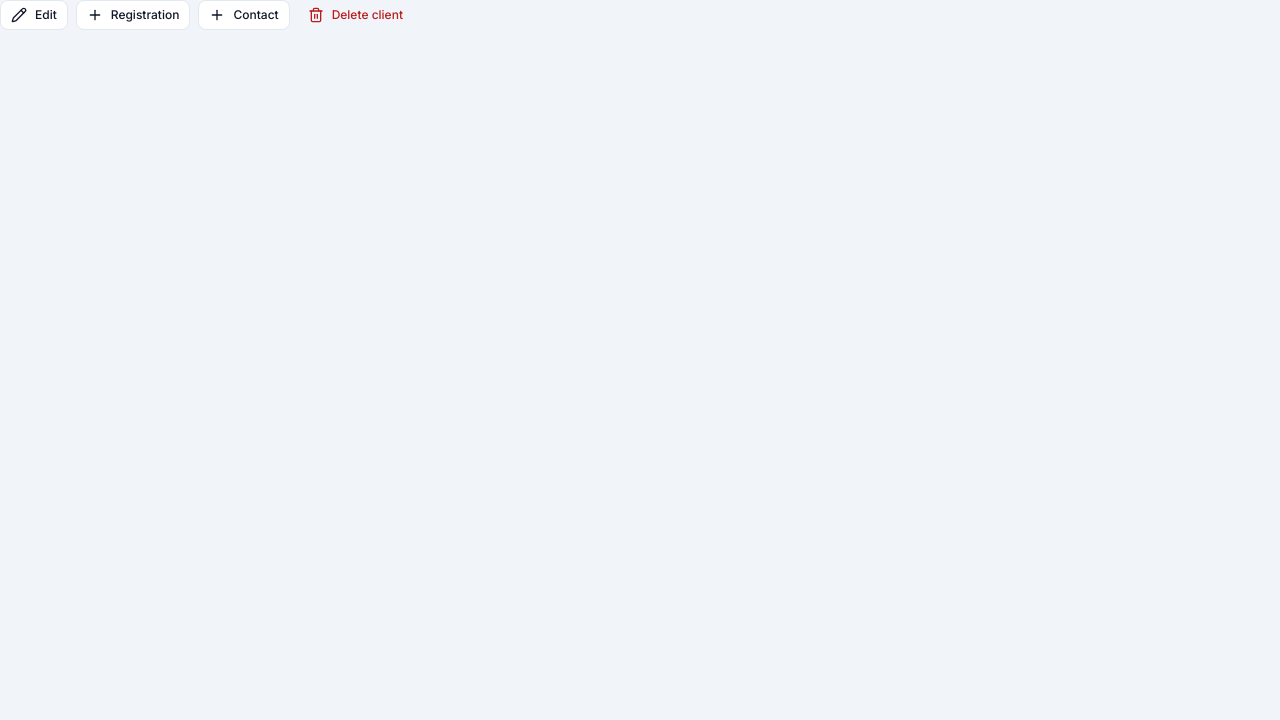
Delete client › shows why the API refused
This screenshot has width=1280, height=720.
Step 1. Click the button "Delete client" → (355, 15), box [298, 0, 413, 30]
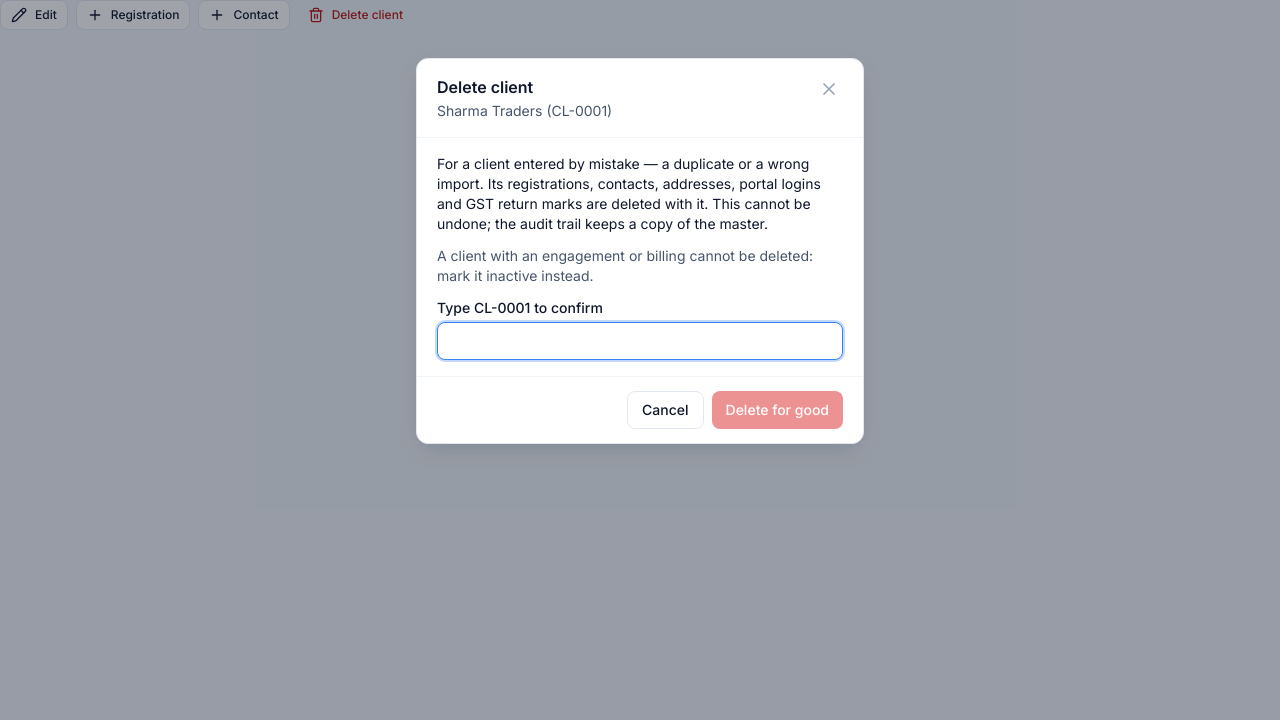
Step 2. Type "CL-0001" into the field labelled "Type CL-0001 to confirm" → (640, 341), box [437, 322, 843, 360]
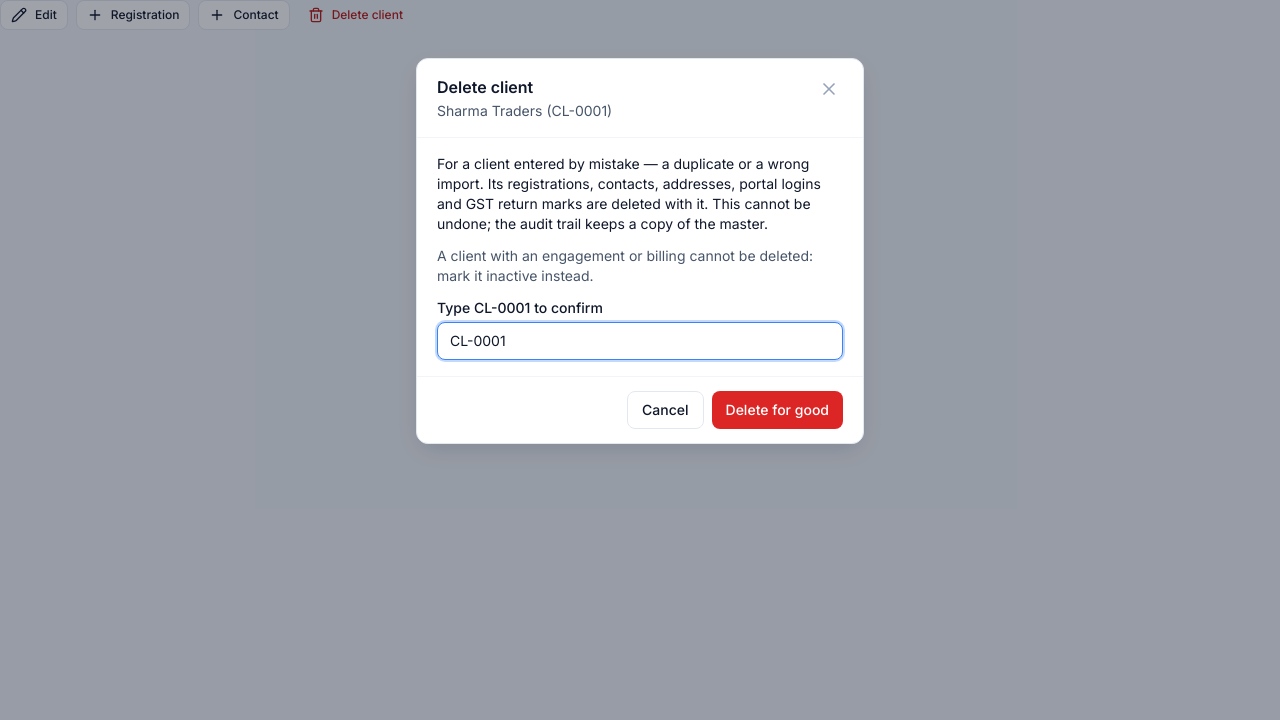
Step 3. Click the button "Delete for good" → (777, 410), box [712, 391, 843, 429]
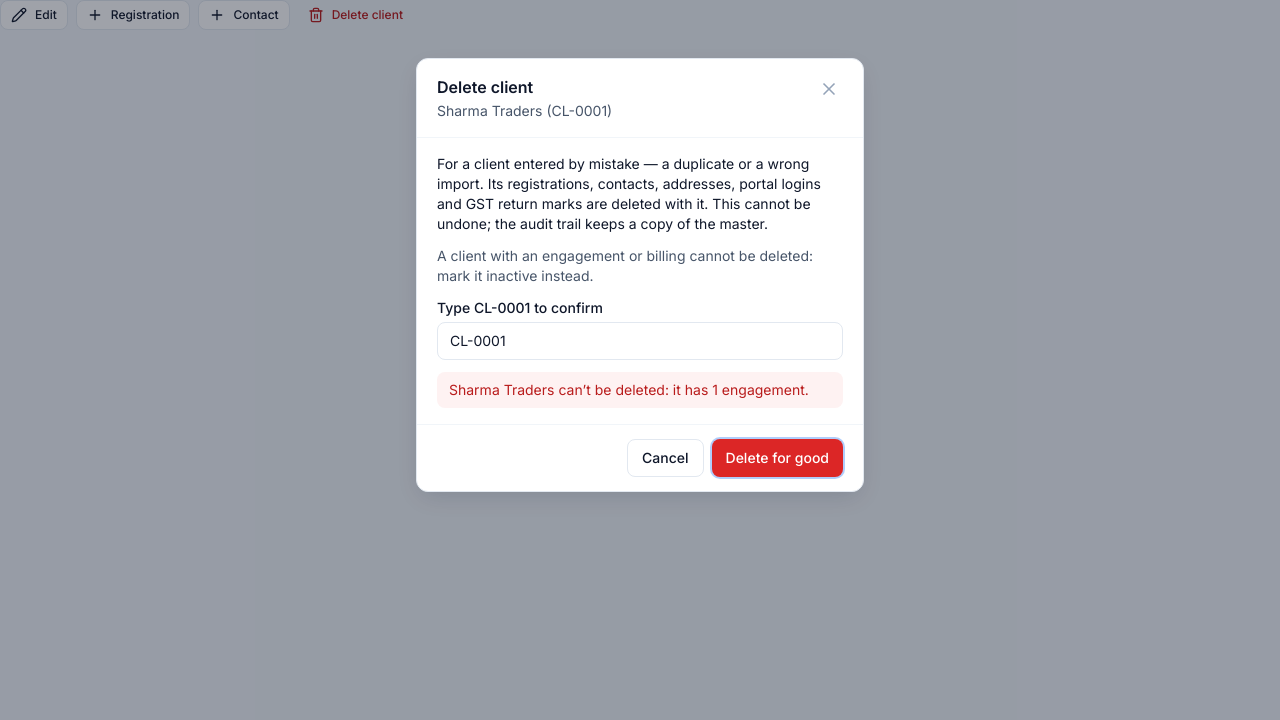
Check: the message shows "it has 1 engagement", box [449, 381, 809, 398]
